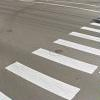Crosswalk: (6, 14, 99, 100)
